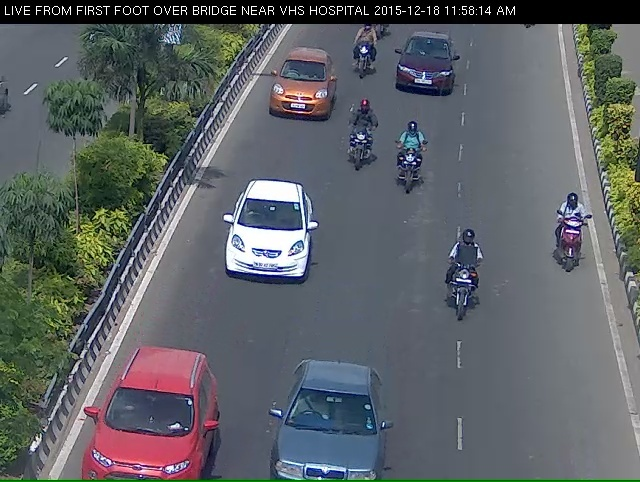Car: (80, 383, 210, 473), (270, 390, 382, 479), (228, 206, 308, 310), (269, 59, 325, 128), (390, 43, 452, 103)
Person: (549, 202, 602, 293), (390, 133, 427, 215), (338, 111, 374, 194), (451, 250, 479, 351), (343, 26, 373, 89)
